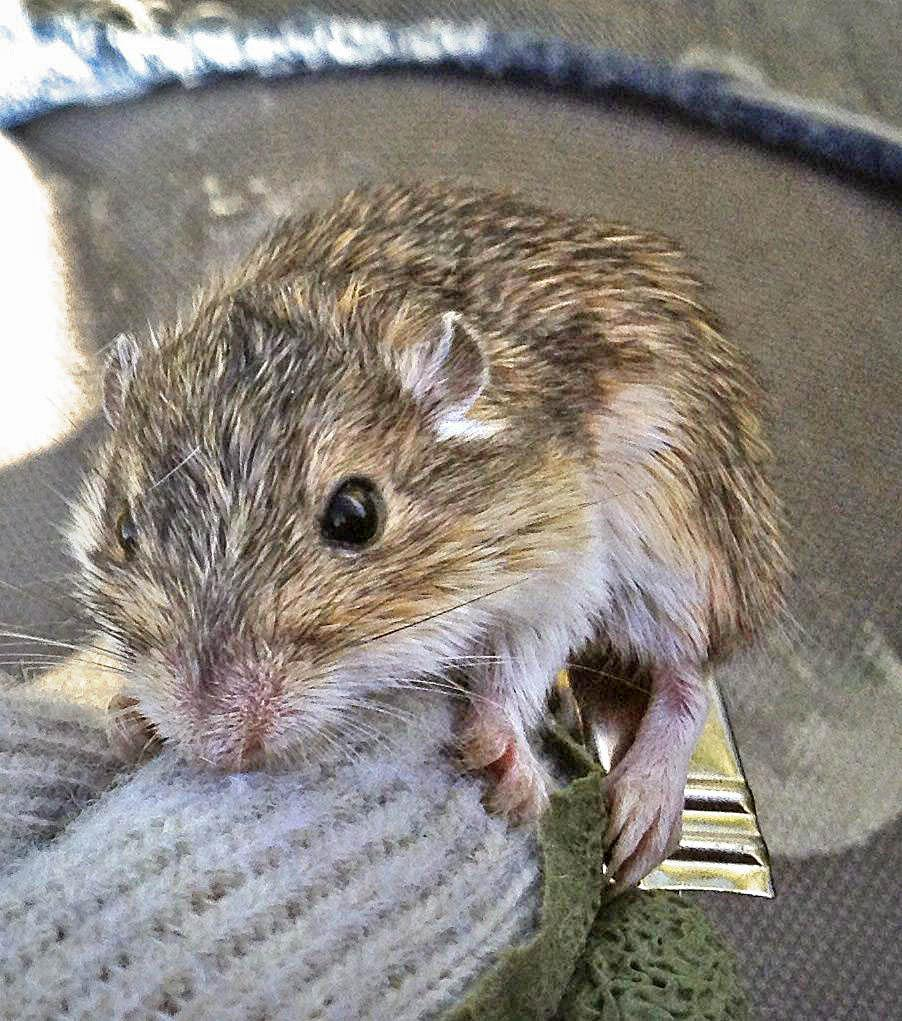rat: (57, 184, 796, 895)
